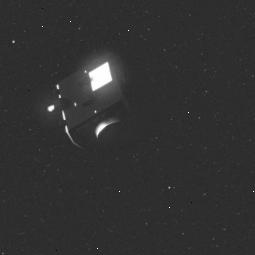proba_3_ocs: (39, 46, 168, 154)
